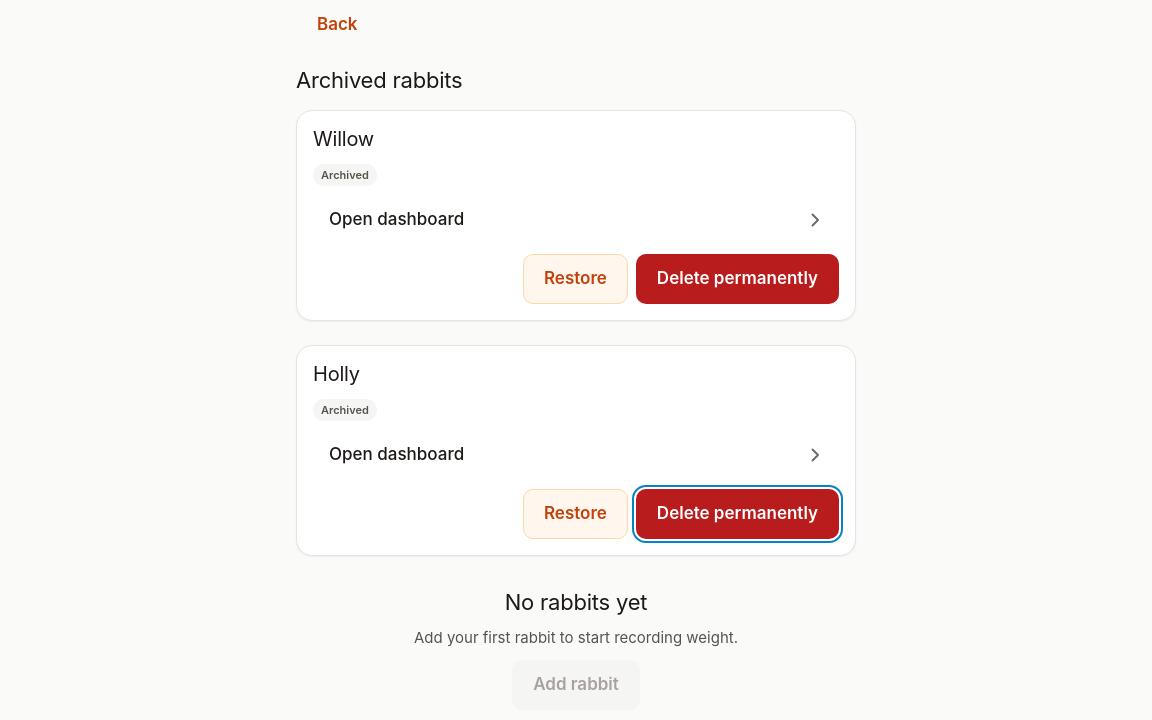
Test: names the row's rabbit in the confirmation and deletes only that rabbit
Expected: the heading "Willow" is shown, [313,127,374,151]
Click the 2nd button "Delete permanently" at (737, 514), box [636,489,839,539]
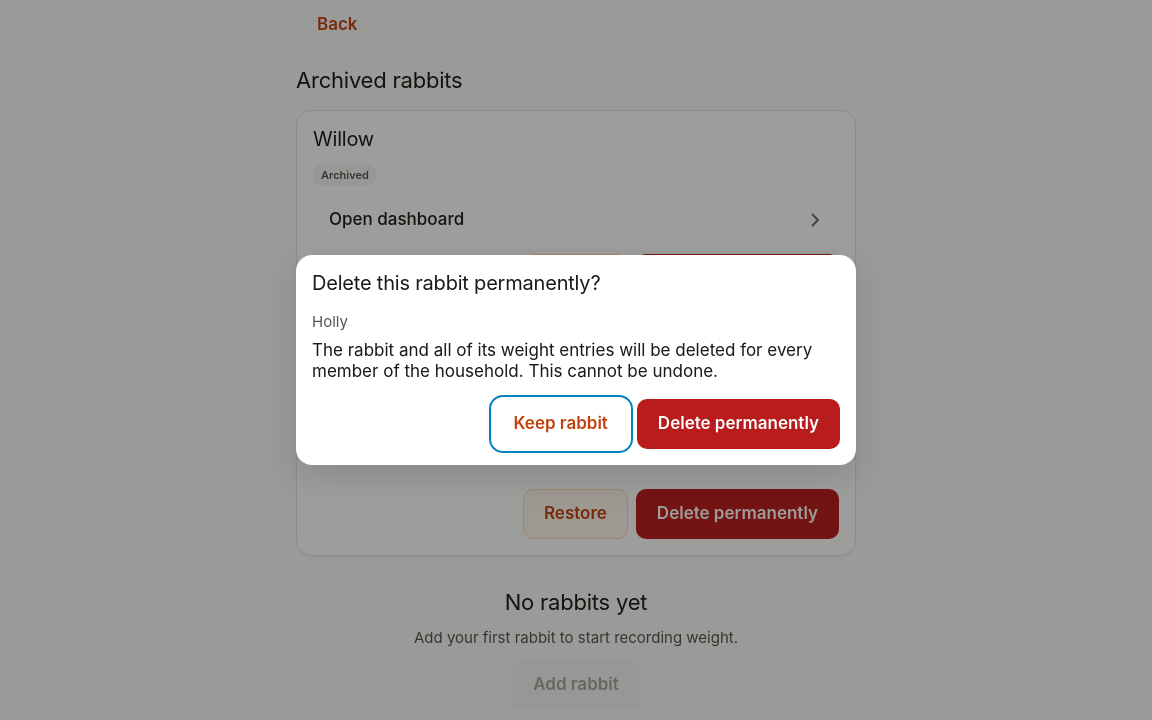
Now the text "Holly" is shown, box [312,312,348,330]
Click the button "Delete permanently" at (738, 424), box [637,400,840,450]
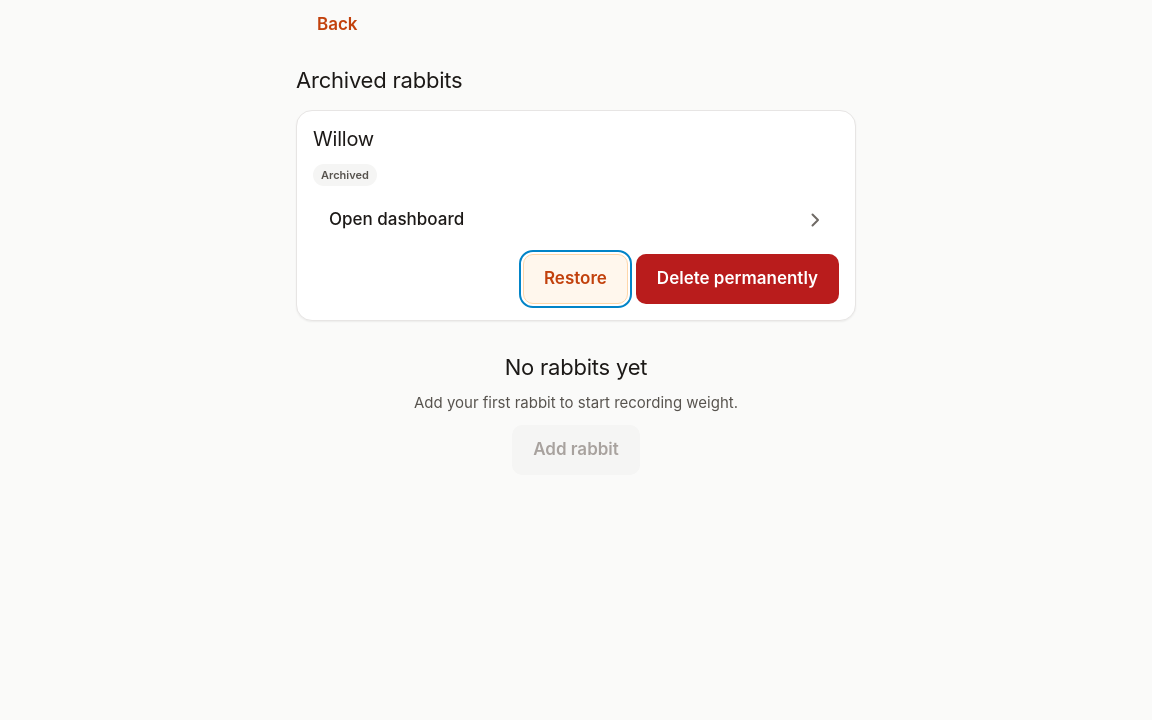
Expected: the heading "Willow" is shown, [313,127,374,151]
Now the heading "Holly" is gone
